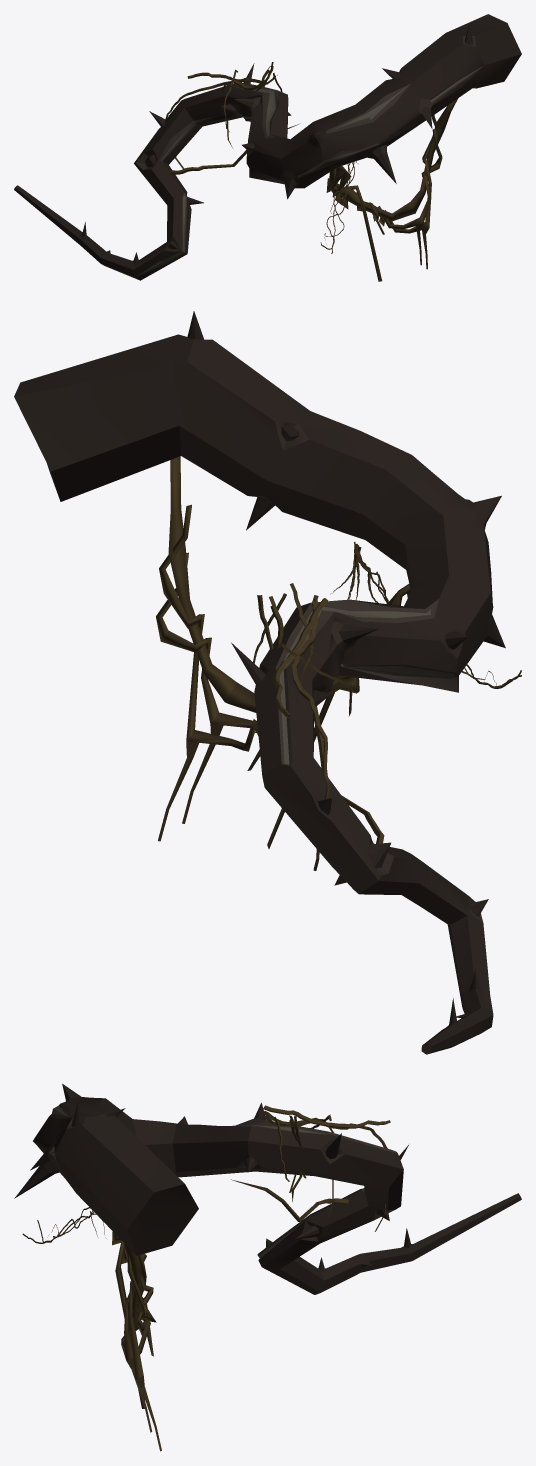
The model's file is root_spikes_05.fbx.
The picture shows the model from 3 angles, top to bottom: view 1: azimuth 30°, elevation 25°; view 2: azimuth 150°, elevation 25°; view 3: azimuth 270°, elevation 25°; orthographic projection. The views are drawn at different scales.
Parts seen in each view (by area): view 1: root_spikes_05, root_spikes_05_1; view 2: root_spikes_05, root_spikes_05_1; view 3: root_spikes_05, root_spikes_05_1.
Boxes of the visible parts, box(x1,y1,x2,y2) form: root_spikes_05: box(14, 14, 521, 280); root_spikes_05_1: box(164, 62, 457, 281); root_spikes_05: box(14, 311, 505, 1054); root_spikes_05_1: box(156, 456, 521, 870); root_spikes_05: box(14, 1083, 521, 1294); root_spikes_05_1: box(22, 1105, 390, 1451).
Size of the model in its own units: 2589 by 1797 by 2316.
